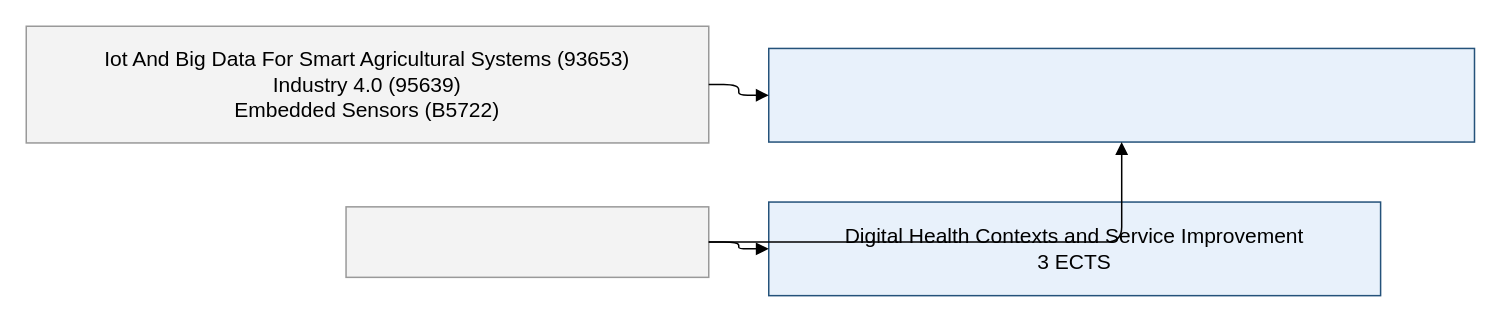
Image size: 1502x323. Some labels were removed from this diagram. The centre of each missing label's shape, as x and y in pixels:
DIGITAL HEALTH M (B8018): point (527, 241)
Digital Health Platforms, IoT, and Personal Health Systems 3 ECTS: point (1120, 94)
